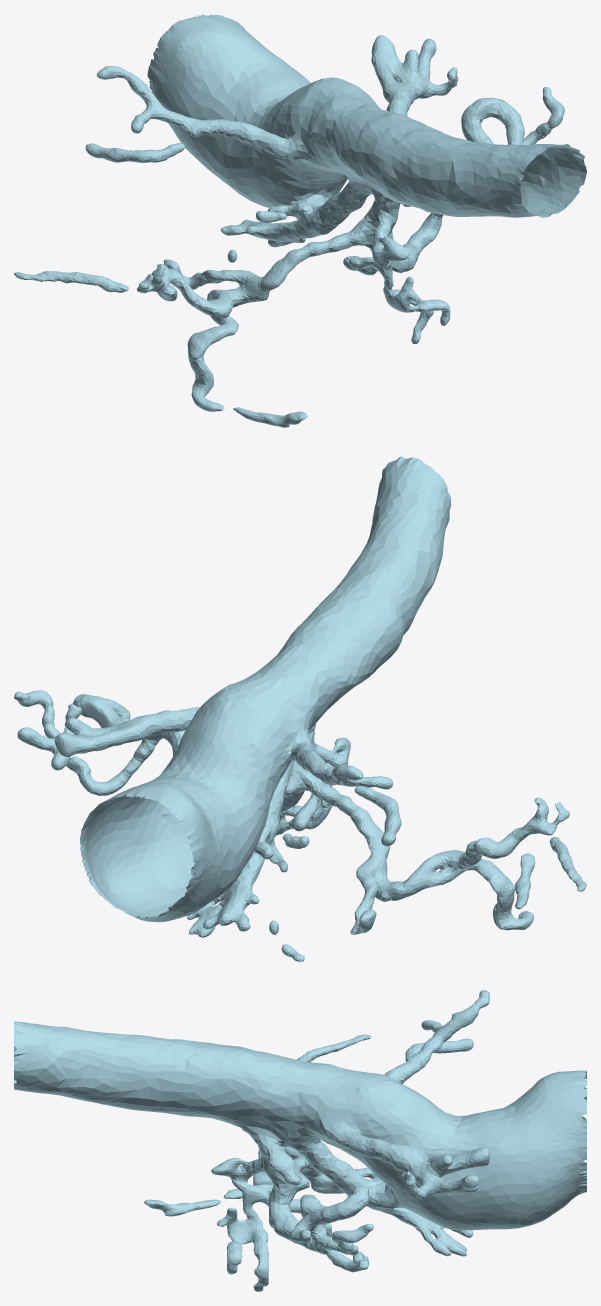
Rendered from artery.obj.
3 renders of one model, top to bottom at view 1: azimuth 30°, elevation 25°; view 2: azimuth 150°, elevation 25°; view 3: azimuth 270°, elevation 25°, orthographic. The views are drawn at different scales.
Parts seen in each view (by area): view 1: grp1; view 2: grp1; view 3: grp1.
Boxes of the visible parts, x1,y1,x2,y2 form: grp1: (14, 14, 586, 427); grp1: (14, 456, 586, 961); grp1: (14, 990, 586, 1291).
Bounding box in the file's own units: 220 × 116 × 218.
